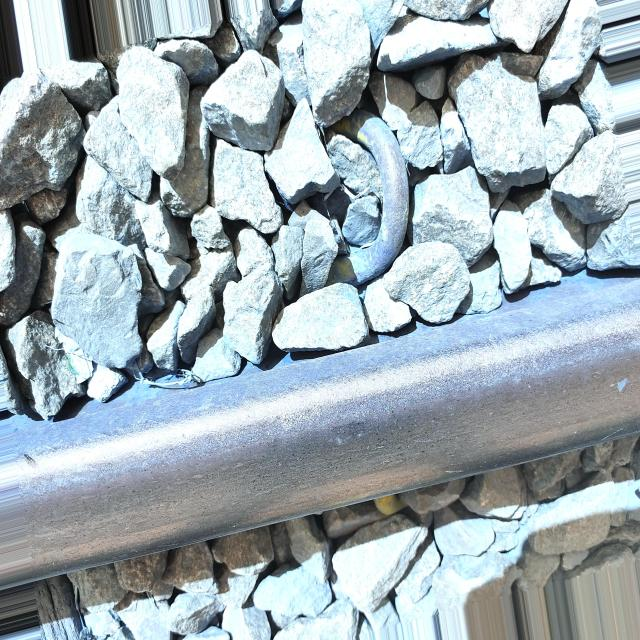non-defective: (2, 262, 638, 592)
